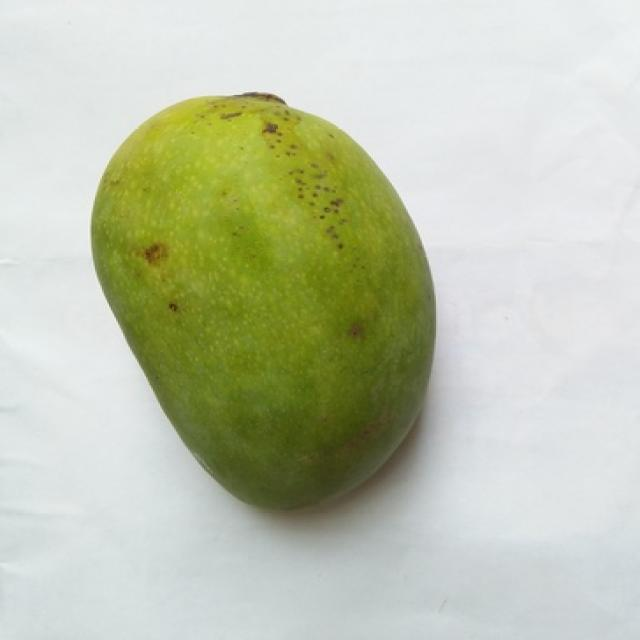Mango: (91, 96, 434, 509)
